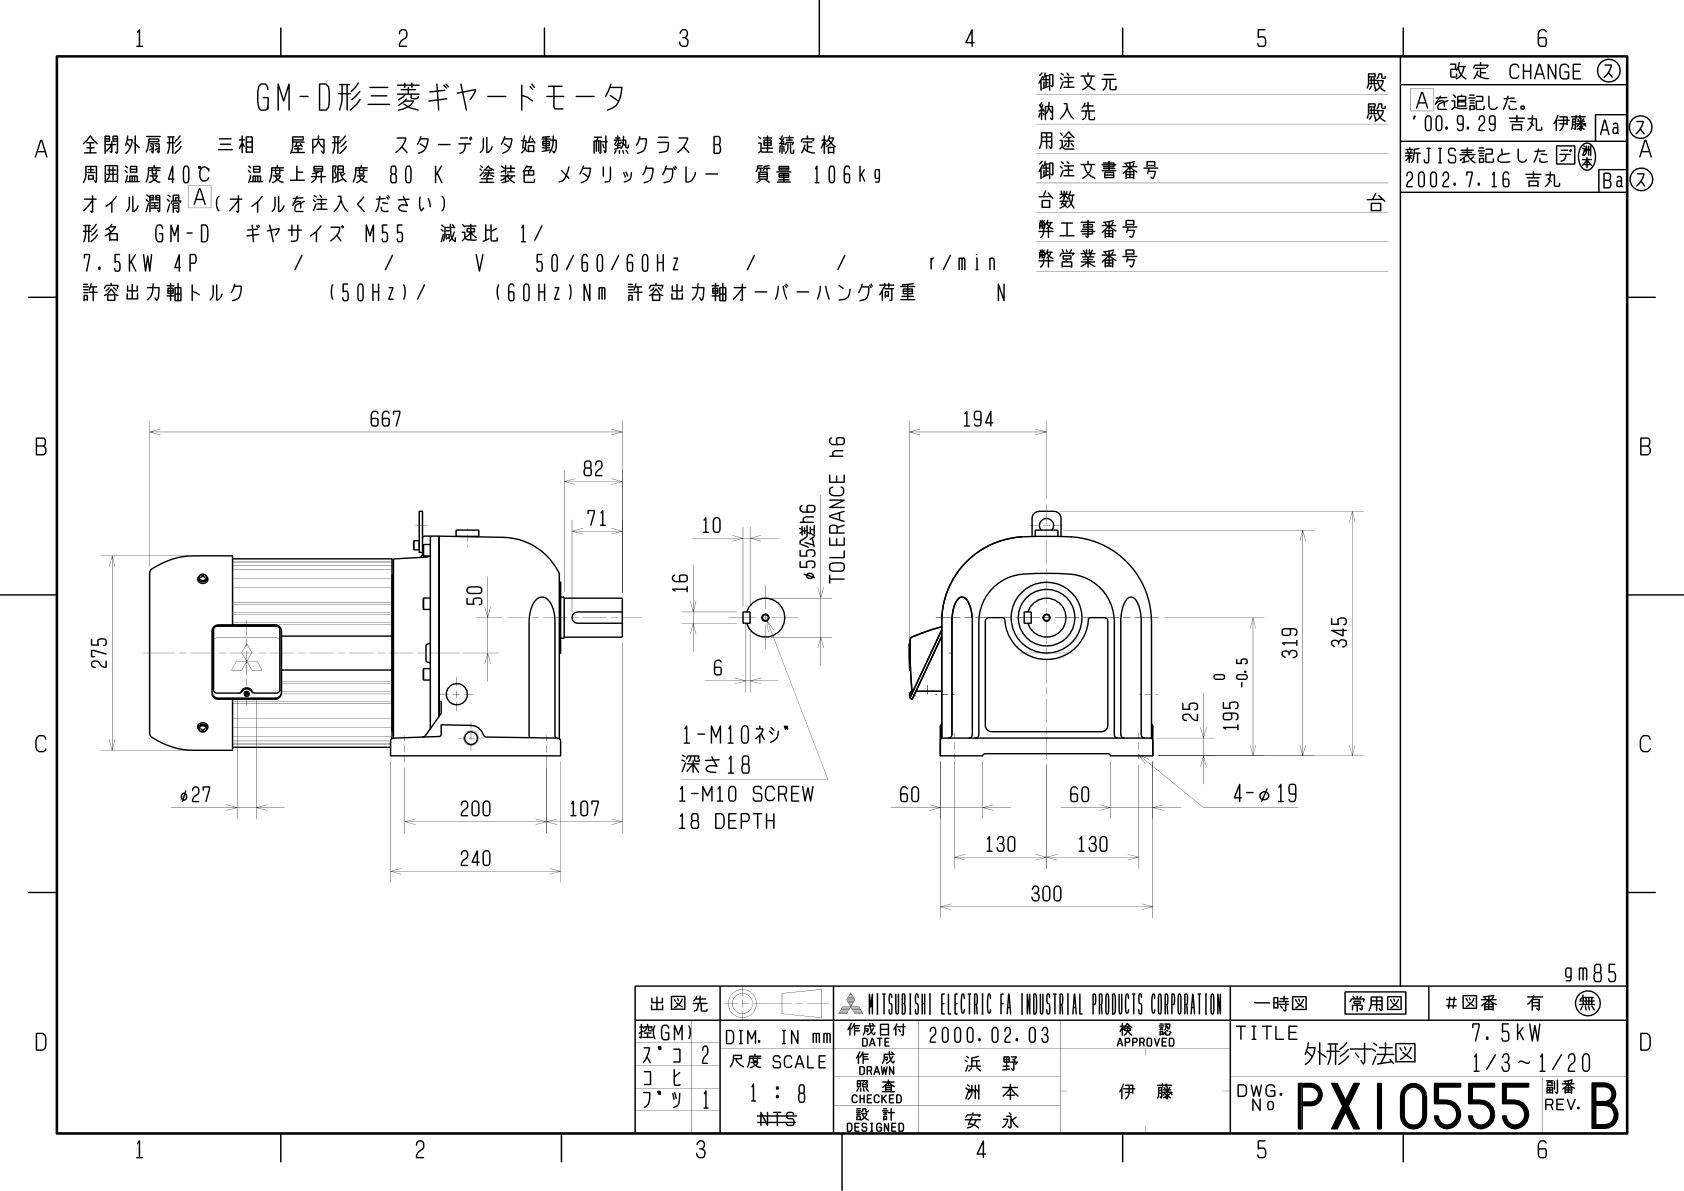GM_D_屋内＿三相_脚: (67, 351, 1371, 933)
